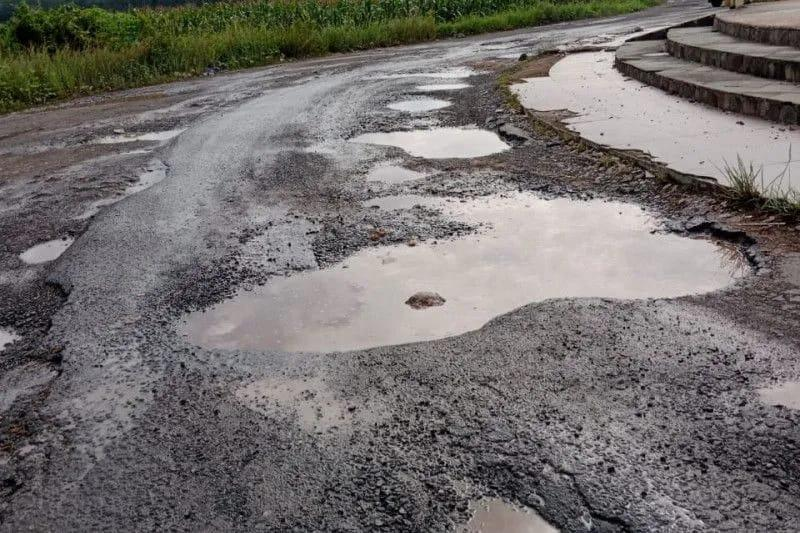Pothole: (154, 200, 766, 368), (17, 69, 177, 265), (344, 77, 528, 198), (0, 274, 100, 480), (416, 481, 670, 533), (744, 339, 800, 440), (456, 36, 552, 72), (271, 51, 369, 83)
